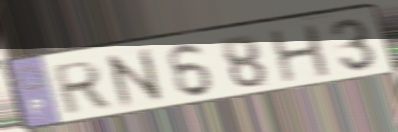3: (329, 16, 376, 74)
6: (164, 40, 218, 100)
8: (219, 34, 270, 91)
H: (266, 21, 335, 85)
N: (101, 45, 170, 112)
R: (51, 58, 112, 118)
